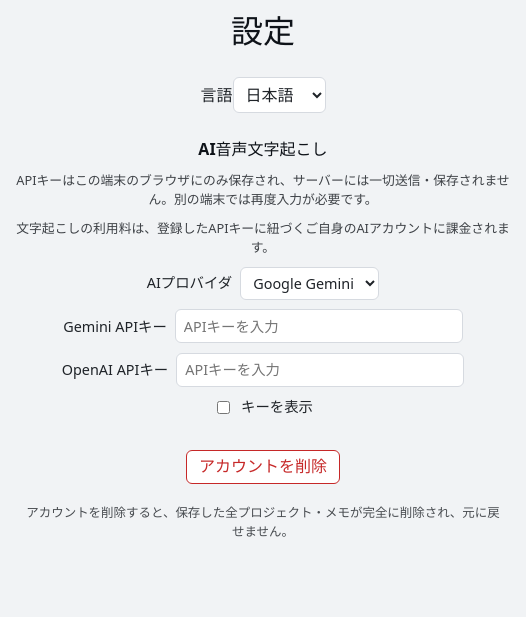
Scenario: SettingsPage › 削除失敗時はエラーメッセージが表示される
Step 1. Click the button "アカウントを削除" → [263, 467], box x1=186 y1=450 x2=340 y2=484
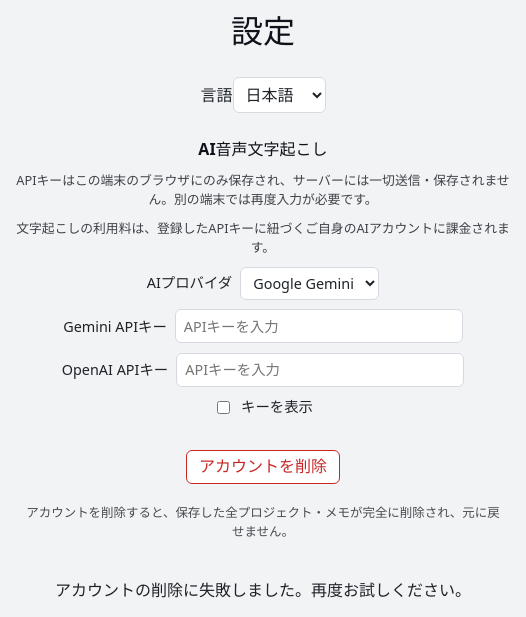
Check: the message shows "アカウントの削除に失敗しました", box x1=55 y1=579 x2=471 y2=601
